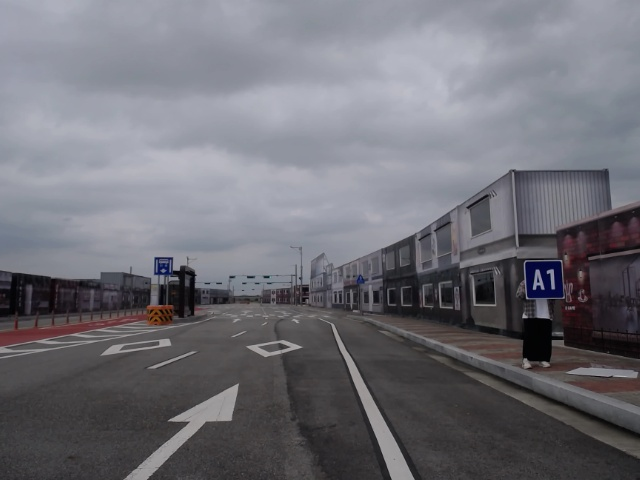delivery_a1: (524, 261, 564, 299)
